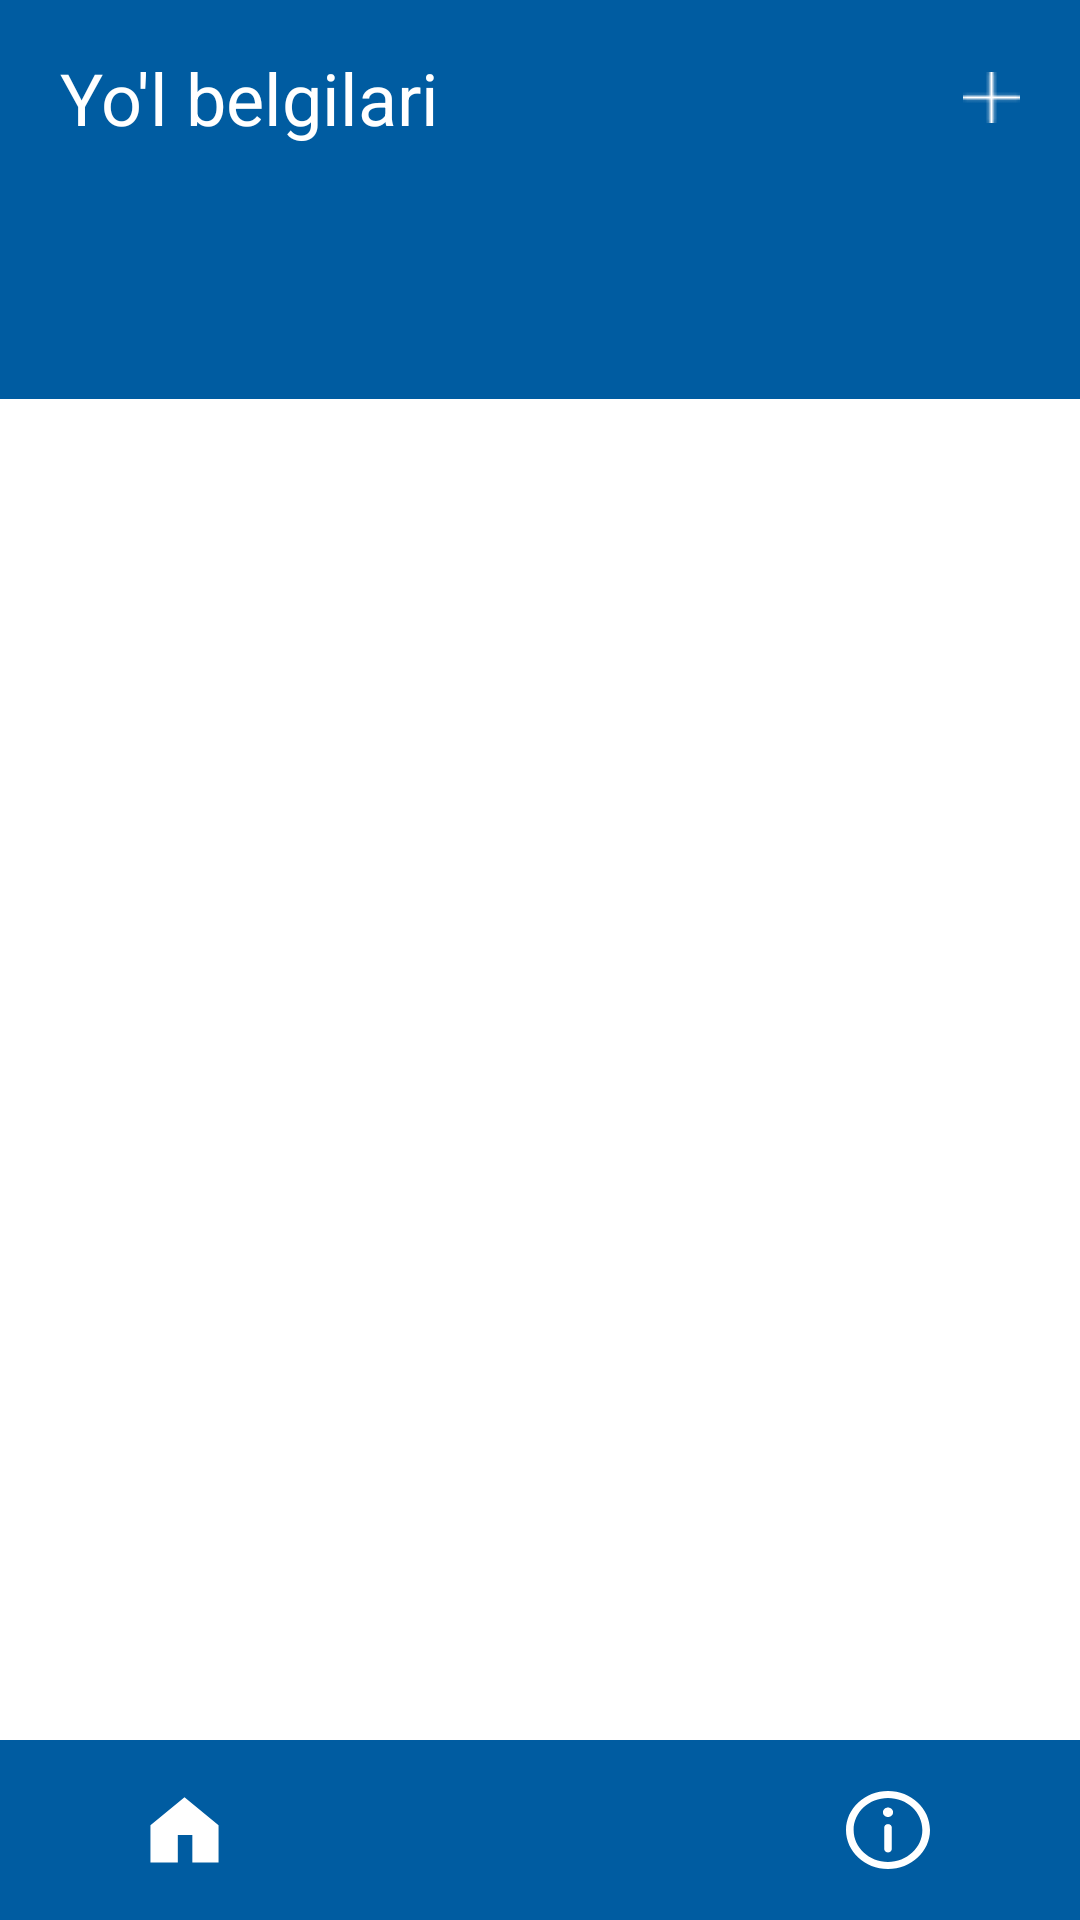

Icon bounding boxes for this 1080x1920 phone screenshot, format (x1, y1, x2, y2):
add: (963, 72, 1020, 123)
home: (150, 1797, 219, 1863)
info: (846, 1791, 930, 1869)
